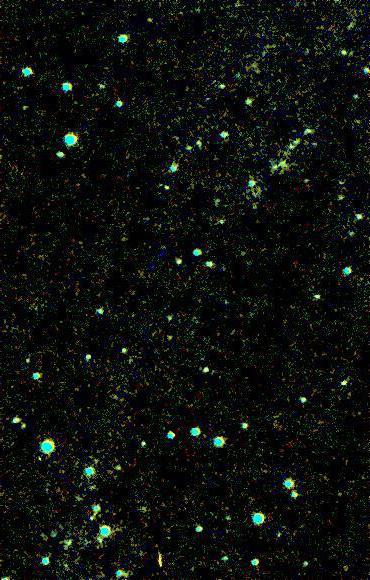star: (136, 6, 166, 36)
